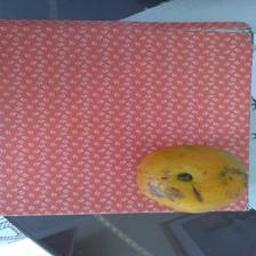Orange Semifresh: (138, 135, 255, 222)
